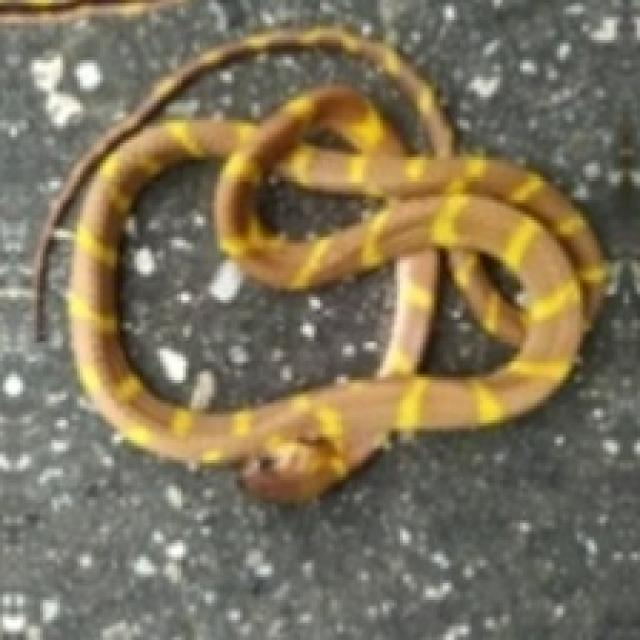mangrove cat snake: (37, 29, 603, 500)
